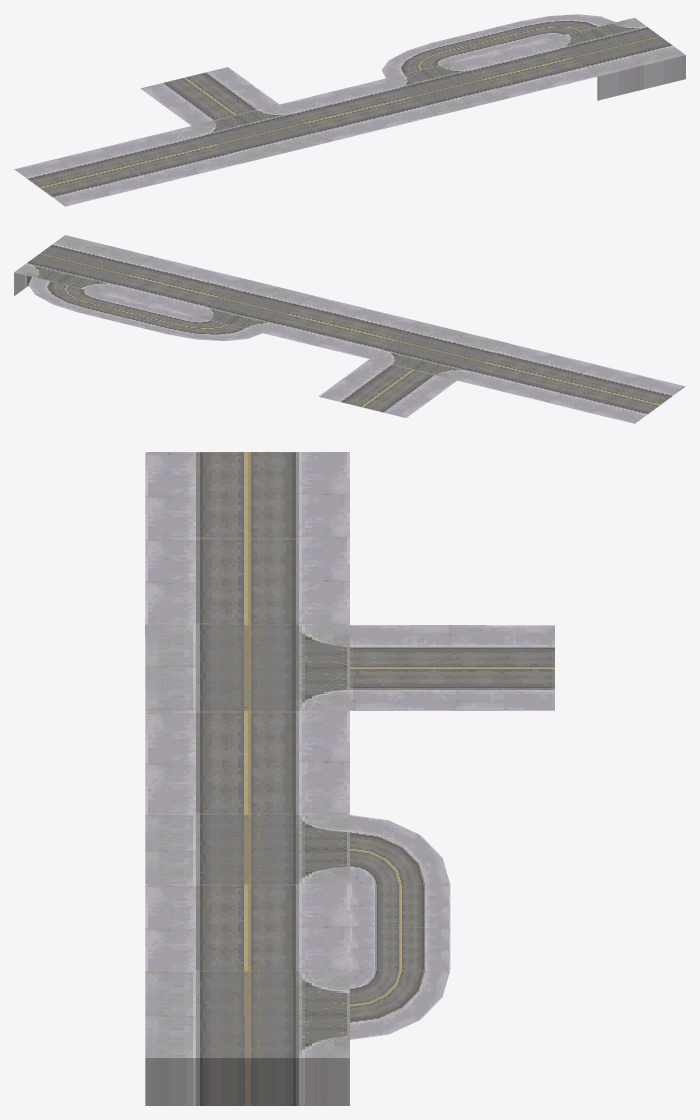
The model's file is lodasnedge12.obj.
3 views of the same model, one above another, from view 1: azimuth 30°, elevation 25°; view 2: azimuth 150°, elevation 25°; view 3: azimuth 270°, elevation 25° (orthographic). The views are drawn at different scales.
Parts seen in each view (by area): view 1: lodasNedge12; view 2: lodasNedge12; view 3: lodasNedge12.
Part boxes in pixels (box(x1,y1,x2,y2)): lodasNedge12: box(14, 14, 685, 206); lodasNedge12: box(14, 235, 685, 423); lodasNedge12: box(145, 452, 554, 1105).
Size of the model in its own units: 140 by 5.17 by 40.01.
Materials: 2 (2 with a texture image).
